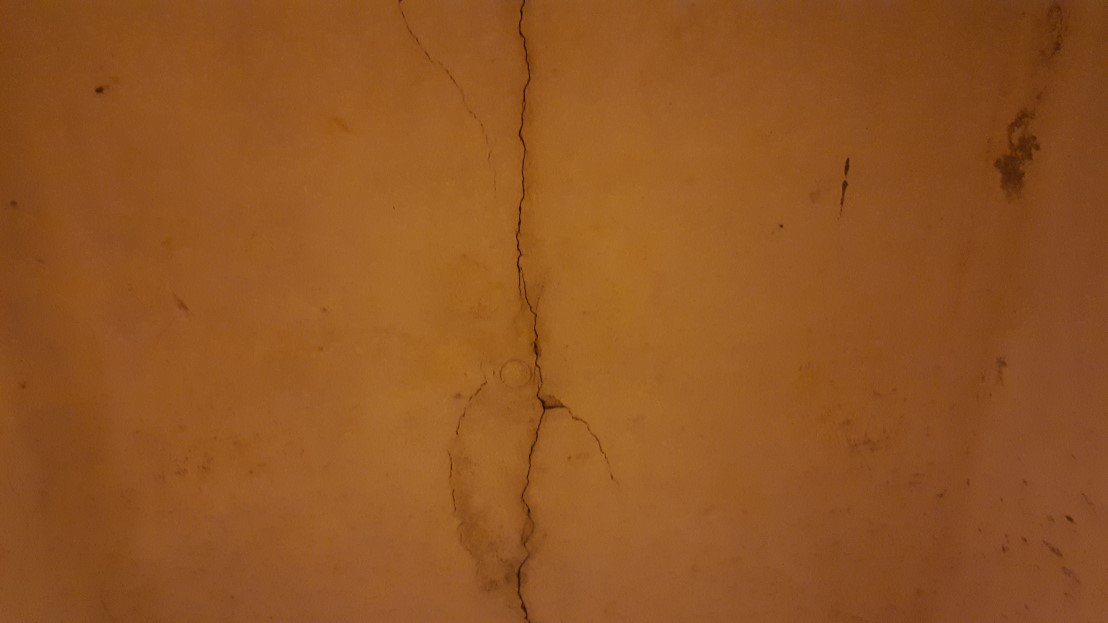Crack: (499, 0, 564, 416), (377, 0, 512, 196), (493, 351, 579, 623), (417, 350, 509, 600), (538, 376, 663, 500)
